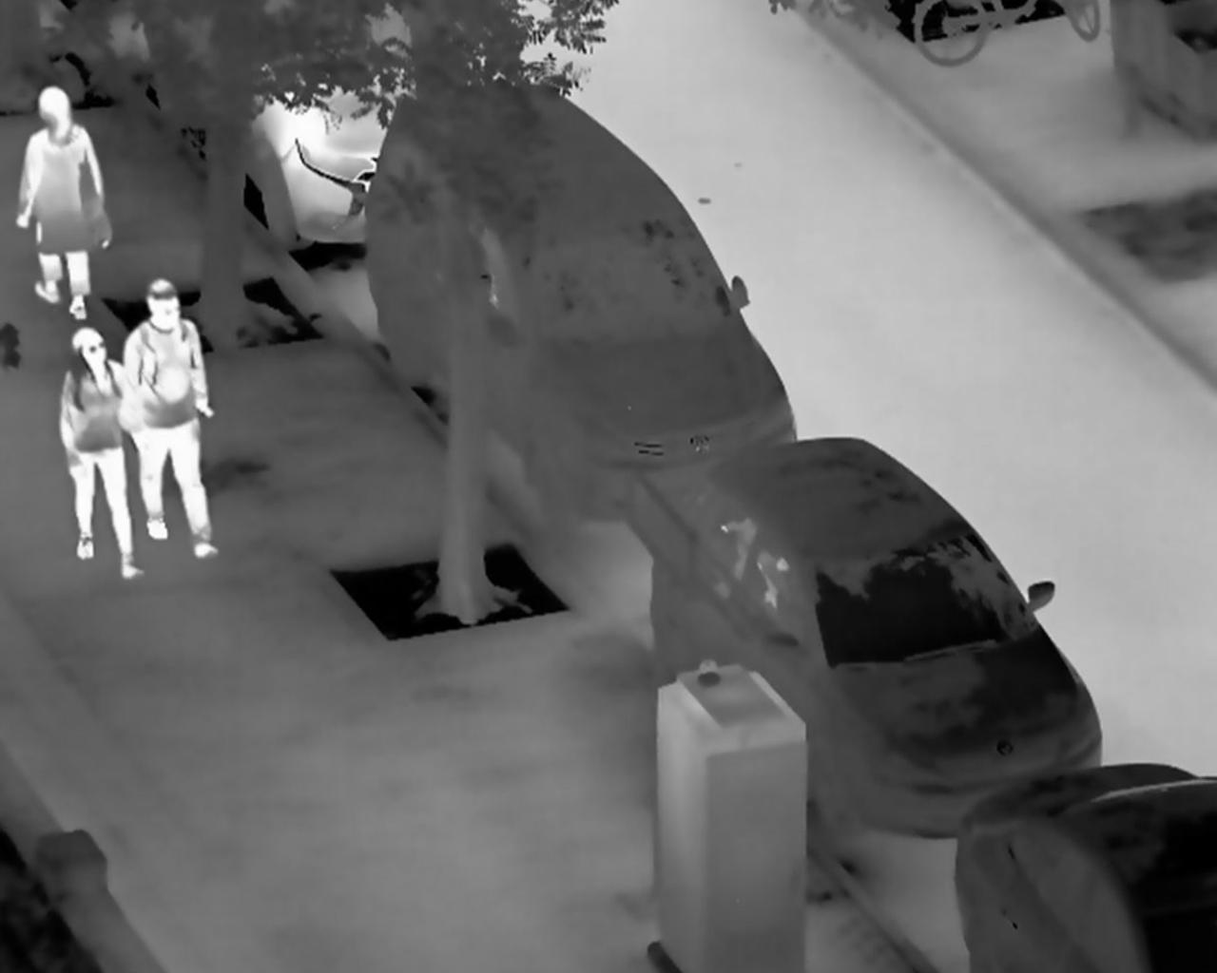person: (122, 276, 222, 559), (13, 86, 116, 320), (57, 325, 143, 577)
